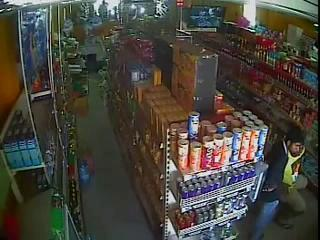Normal: (246, 131, 317, 240)
